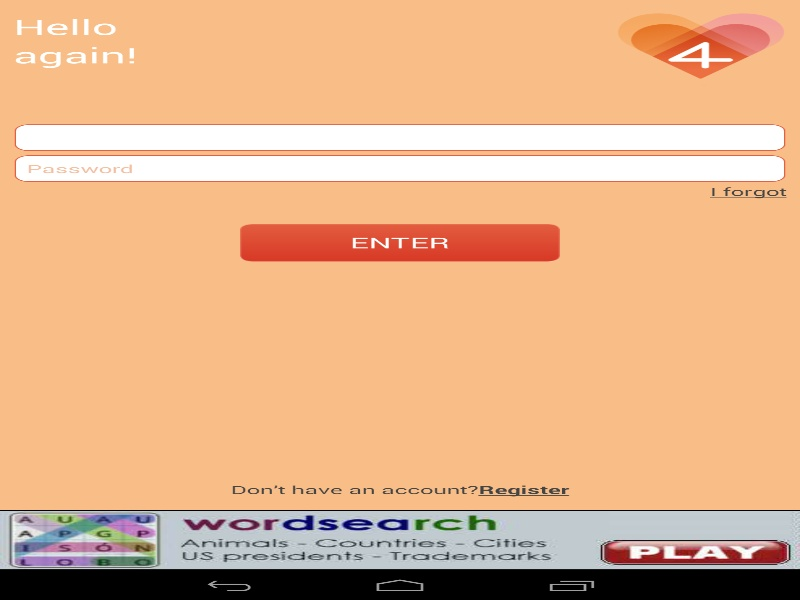Button: (240, 224, 560, 261)
Input: (13, 123, 786, 151), (13, 154, 786, 182)
